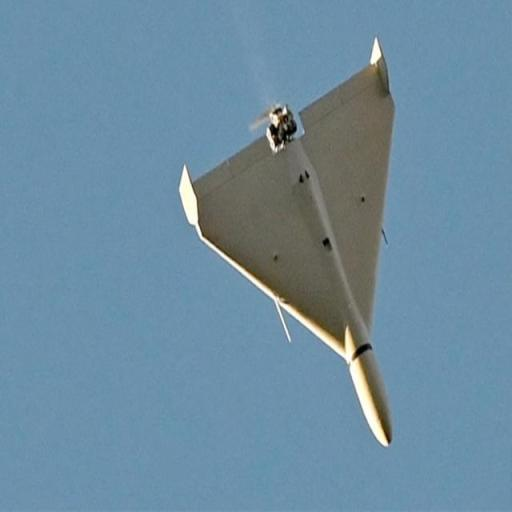uav: (134, 34, 402, 460)
